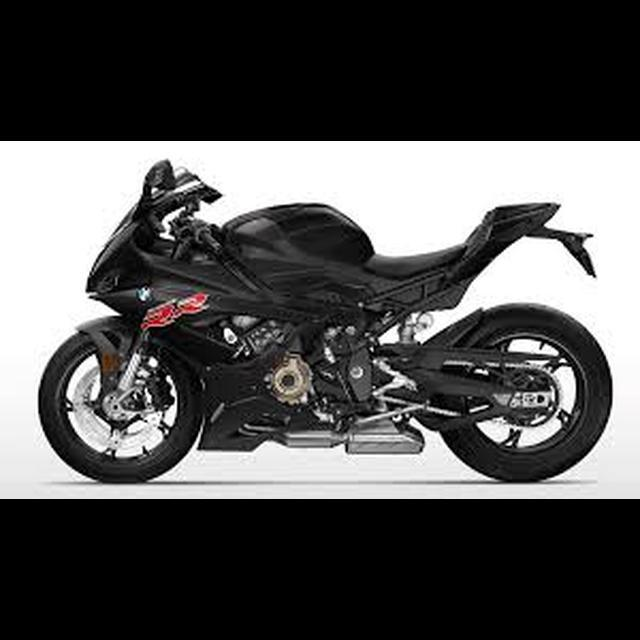motorcycle: (39, 153, 617, 488)
